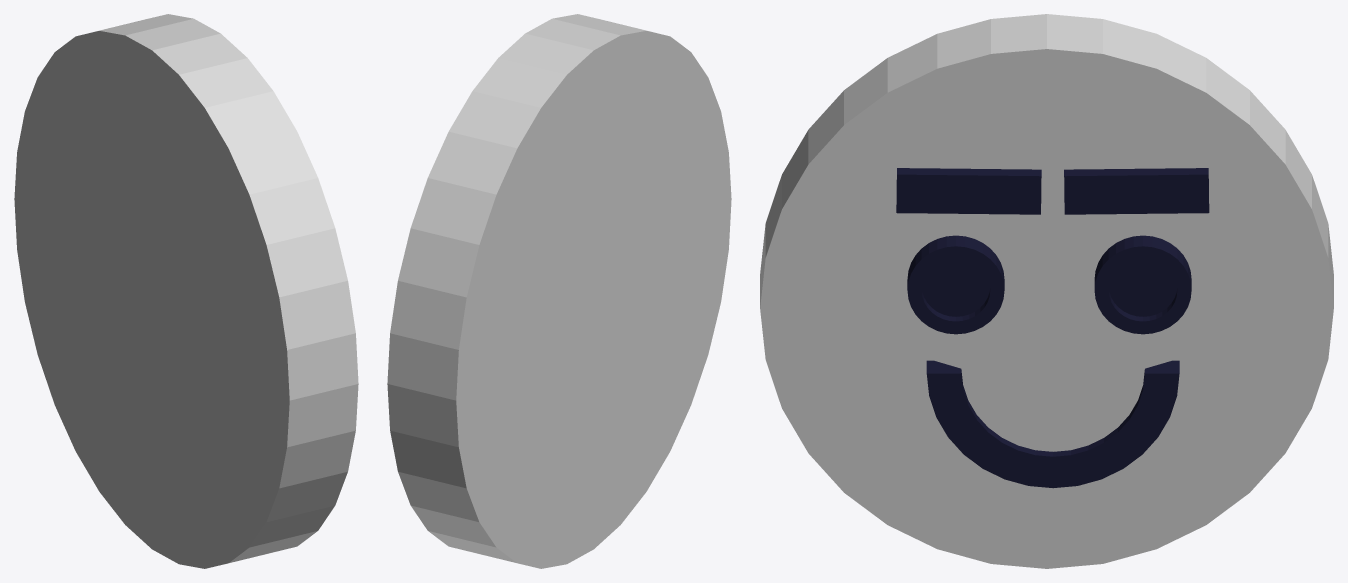
File: boton Joy.fbx
The picture shows the model from 3 angles, left to right: view 1: azimuth 30°, elevation 25°; view 2: azimuth 150°, elevation 25°; view 3: azimuth 270°, elevation 25°; orthographic projection. The views are drawn at different scales.
Visible parts, largest first — view 1: Circle.002; view 2: Circle.002; view 3: Circle.002, Cube.029, Cylinder.008, Cube.028, Cube.027.
Part boxes in pixels (x1,y1,x2,y2): Circle.002: (14,14,358,568); Circle.002: (387,14,731,568); Circle.002: (760,14,1333,568); Cube.029: (896,168,1209,214); Cylinder.008: (926,360,1179,488); Cube.028: (1094,235,1191,334); Cube.027: (907,235,1004,334).
Bounding box in the file's own units: 19.74 × 100 × 100.
